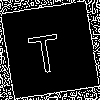T: (25, 25, 63, 75)
